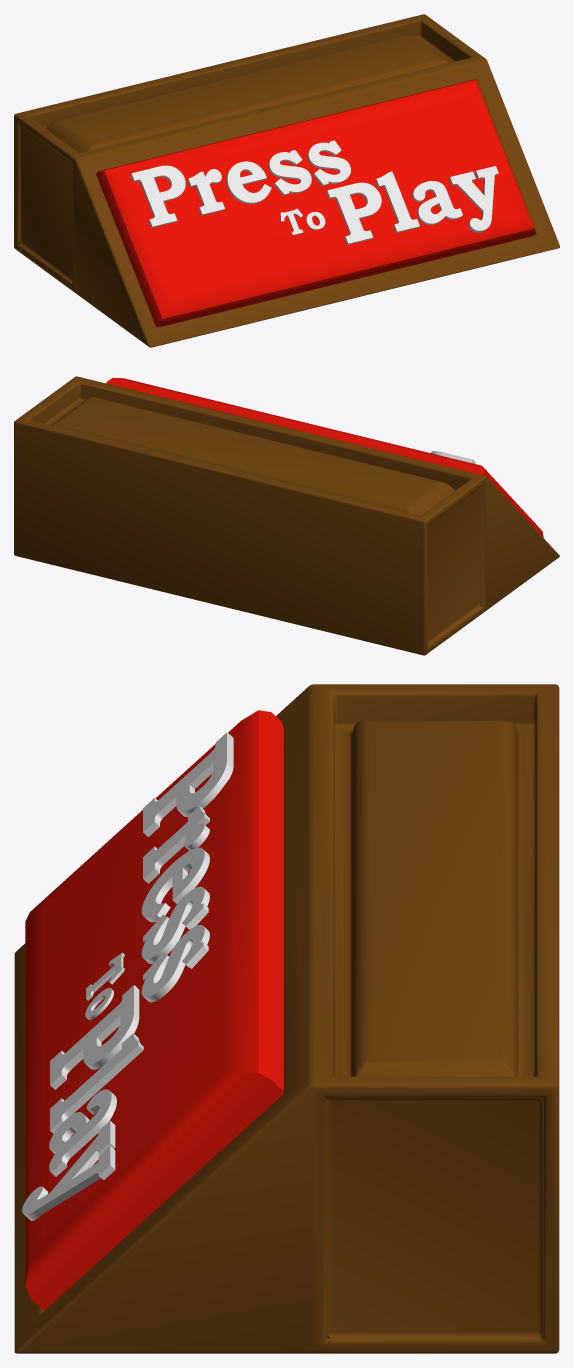
Rendered from ActiveDevice.fbx.
The picture shows the model from 3 angles, top to bottom: view 1: azimuth 30°, elevation 25°; view 2: azimuth 150°, elevation 25°; view 3: azimuth 270°, elevation 25°; orthographic projection. The views are drawn at different scales.
Visible parts, largest first — view 1: Cube.003, Cube.002; view 2: Cube.002, Cube.003; view 3: Cube.002, Cube.003.
Part boxes in pixels (x1,y1,x2,y2): Cube.003: (96,79,535,327); Cube.002: (14,14,559,347); Cube.002: (14,376,559,655); Cube.003: (106,377,543,537); Cube.002: (14,684,559,1353); Cube.003: (22,710,283,1310).
Size of the model in its own units: 33.07 by 10.37 by 18.94.
